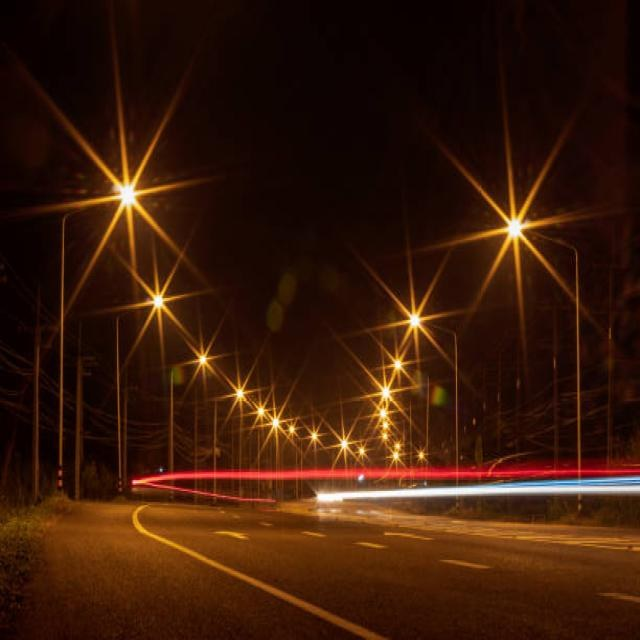acesa: (92, 138, 166, 252), (481, 179, 545, 265), (388, 290, 438, 349), (362, 362, 400, 424), (135, 272, 177, 323), (182, 330, 215, 391), (227, 372, 253, 415)
